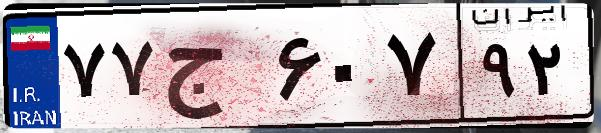0: (330, 28, 385, 110)
2: (525, 38, 570, 115)
6: (270, 28, 330, 110)
7: (385, 28, 445, 110), (57, 26, 110, 100), (110, 28, 158, 98)
9: (475, 38, 525, 113)
ج: (158, 20, 270, 120)
